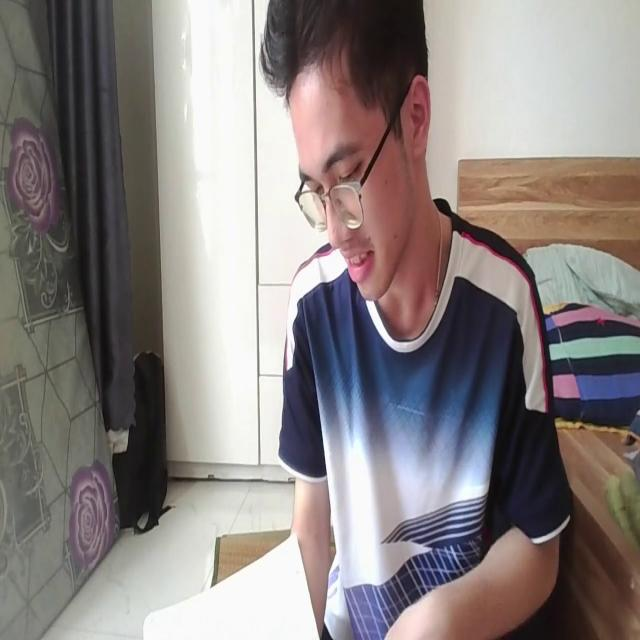book: (143, 530, 325, 640)
student: (261, 0, 562, 640)
